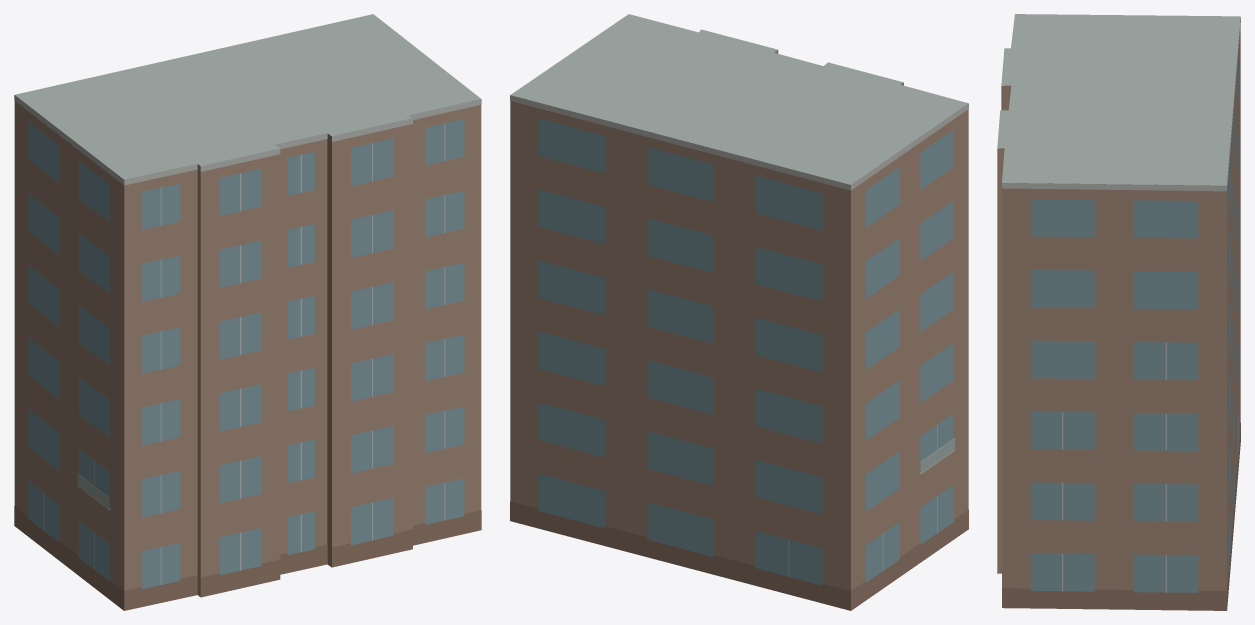
Rendered from survey-upis-32654050.glb.
3 renders of one model, left to right at view 1: azimuth 30°, elevation 25°; view 2: azimuth 150°, elevation 25°; view 3: azimuth 270°, elevation 25°, orthographic.
Visible parts, largest first — view 1: survey-upis-32654050.tmp; view 2: survey-upis-32654050.tmp; view 3: survey-upis-32654050.tmp.
Boxes of the visible parts, x1,y1,x2,y2 form: survey-upis-32654050.tmp: [14, 14, 481, 610]; survey-upis-32654050.tmp: [510, 14, 968, 610]; survey-upis-32654050.tmp: [997, 14, 1240, 610].
Bounding box in the file's own units: 15.86 × 18.3 × 9.51.
